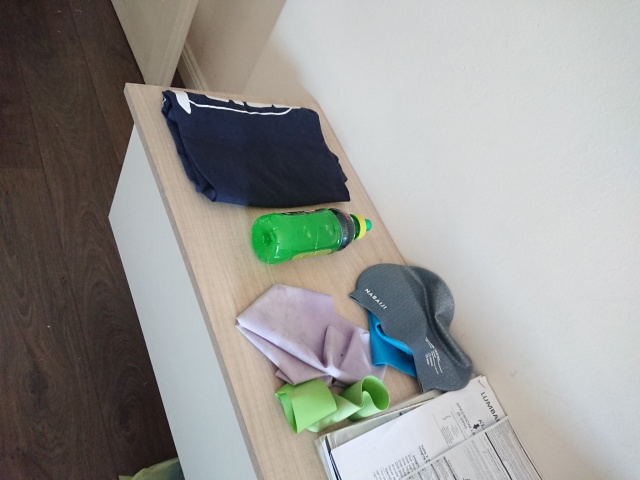Vindi Iso Sport Lemon-Grapefruit 500mL: (248, 206, 374, 267)
